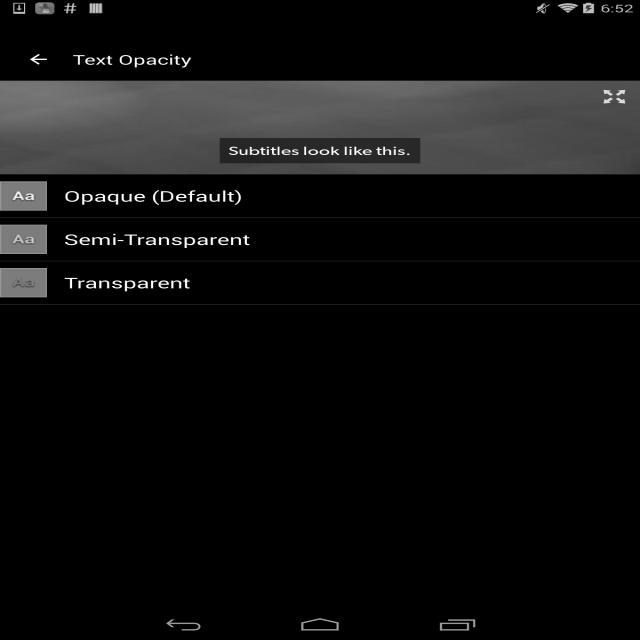CheckedTextView: (64, 186, 606, 206), (64, 229, 606, 249), (64, 273, 606, 292)
ImageButton: (9, 38, 68, 81)
ImageView: (589, 80, 640, 112), (0, 181, 47, 211), (0, 225, 47, 254), (0, 268, 47, 297)
RadioButton: (606, 185, 640, 207), (606, 229, 640, 250), (606, 272, 640, 293)
TextView: (220, 138, 420, 163), (73, 50, 192, 68)
